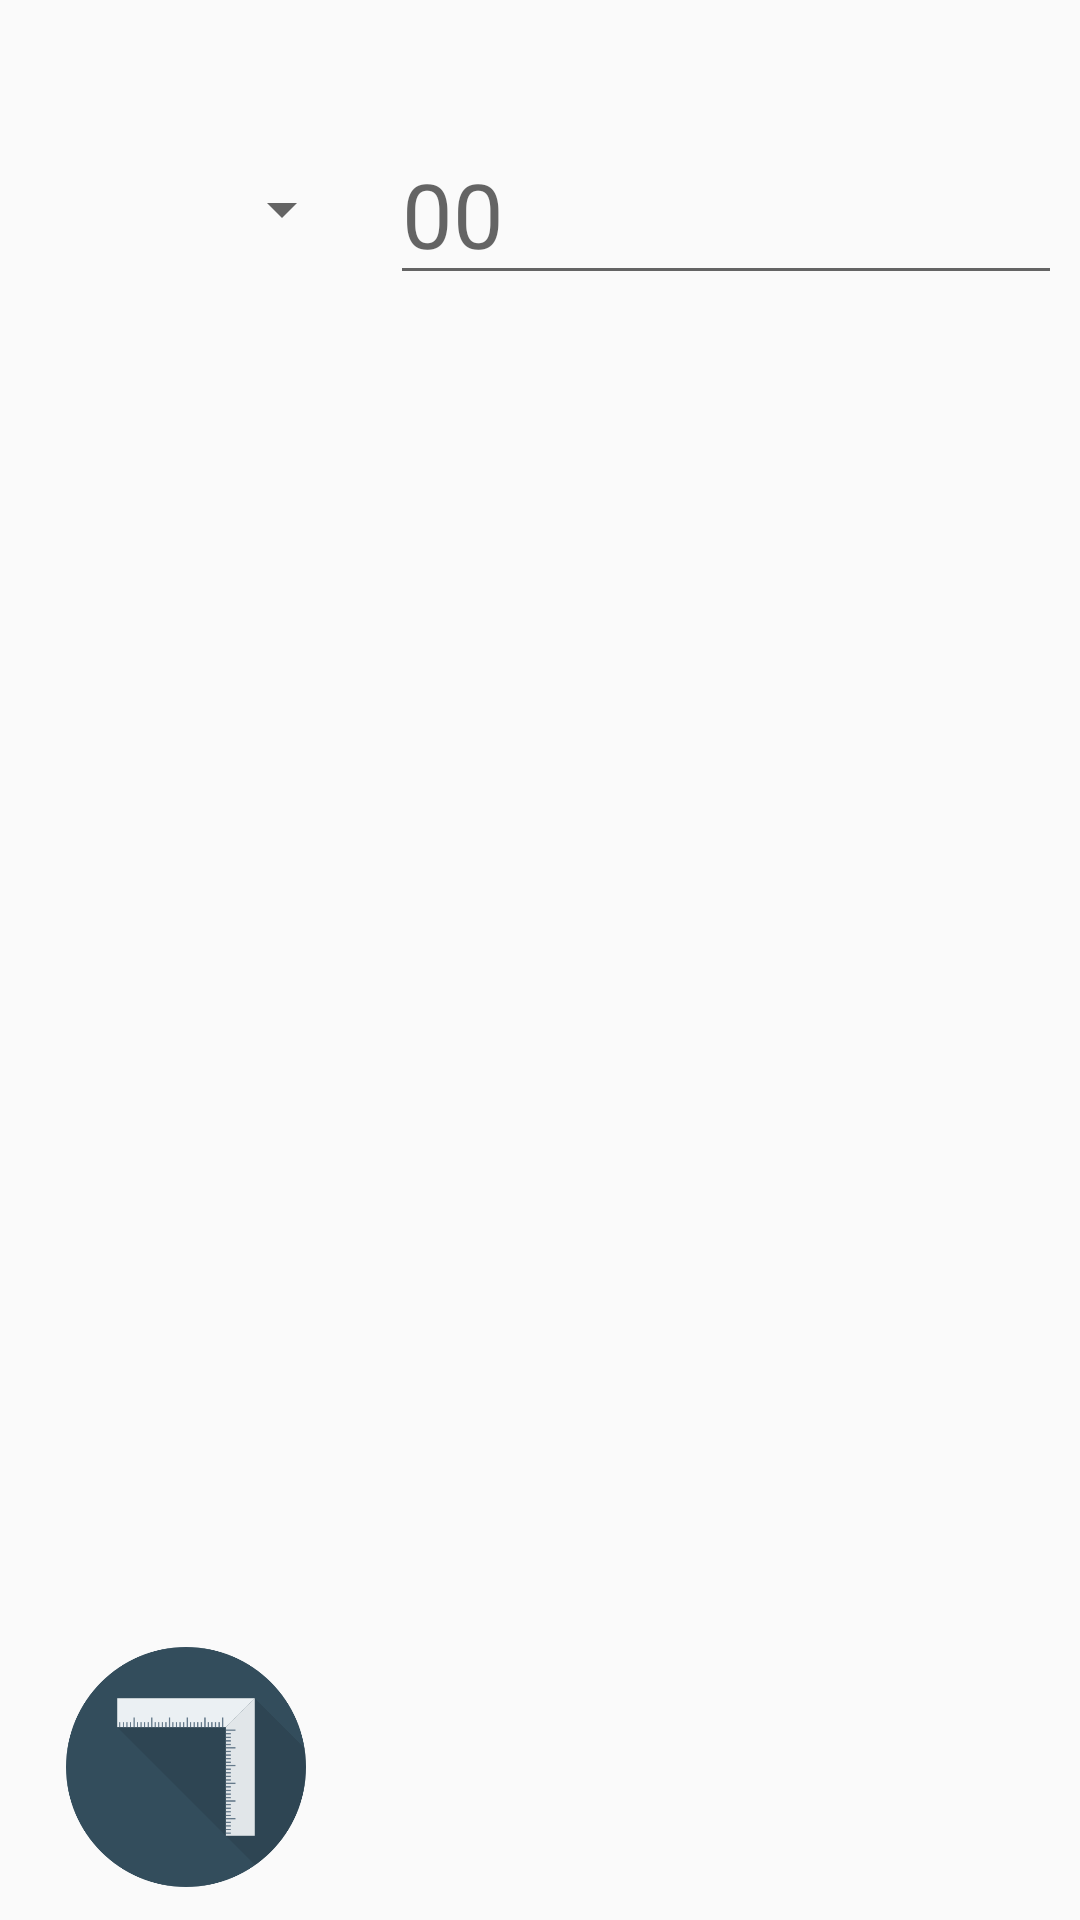

Icons on this 1080px×1920px Android screen, each with the point to tap as [x,y]:
ruler: [186,1767]
